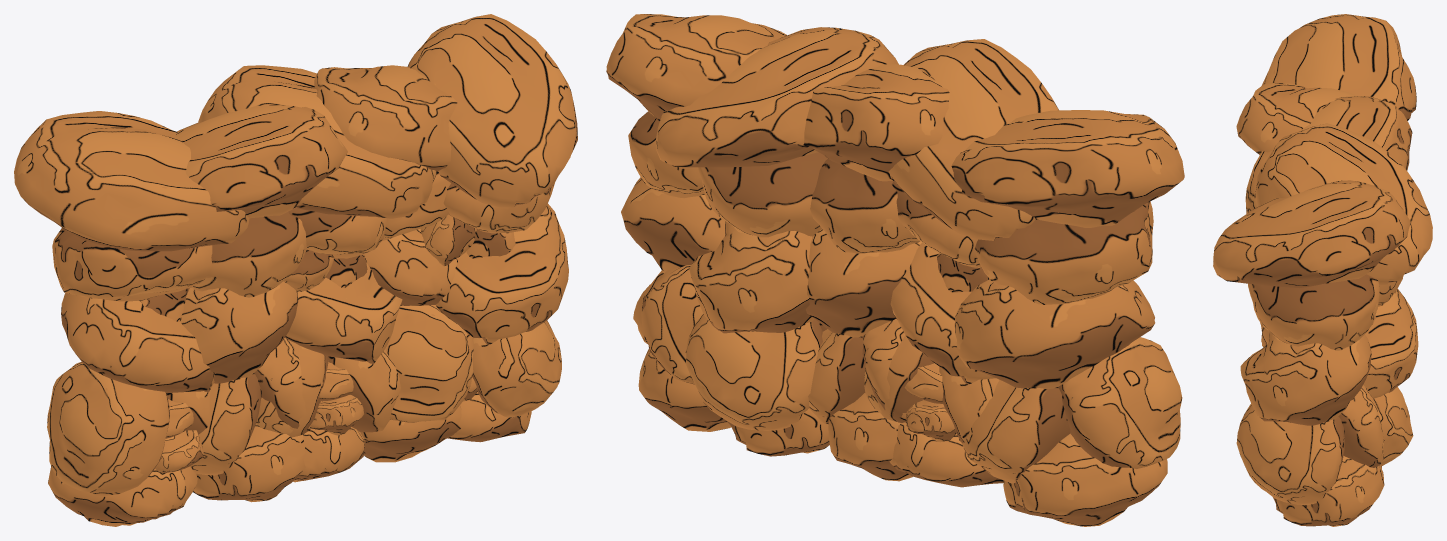
File: RockV3.glb
3 views of the same model, side by side, from view 1: azimuth 30°, elevation 25°; view 2: azimuth 150°, elevation 25°; view 3: azimuth 270°, elevation 25° (orthographic). The views are drawn at different scales.
Visible parts, largest first — view 1: Rock_Pile_Low_ploy_group; view 2: Rock_Pile_Low_ploy_group; view 3: Rock_Pile_Low_ploy_group.
Part boxes in pixels (x1,y1,x2,y2): Rock_Pile_Low_ploy_group: [14, 14, 577, 526]; Rock_Pile_Low_ploy_group: [606, 14, 1184, 526]; Rock_Pile_Low_ploy_group: [1213, 14, 1432, 526].
Size of the model in its own units: 9.16 by 6.37 by 3.78.
Materials: 1 (1 with a texture image).
